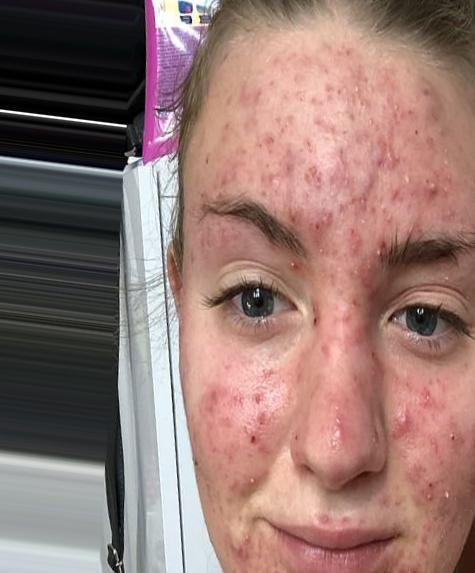Acne: (277, 191, 341, 245), (192, 372, 243, 435), (377, 161, 443, 205), (217, 504, 263, 565), (386, 392, 441, 440), (262, 134, 312, 176), (364, 111, 401, 161)
